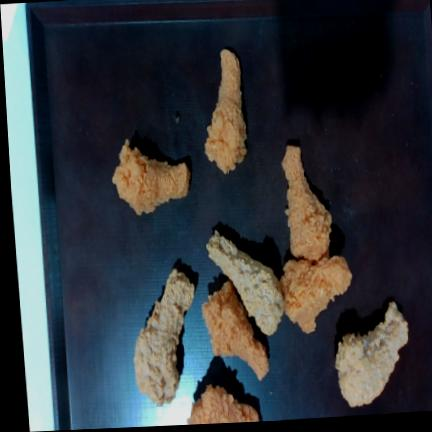chicken: (133, 268, 194, 405), (206, 230, 283, 335), (335, 302, 407, 406), (202, 281, 268, 380), (112, 139, 190, 214), (281, 145, 331, 260), (280, 255, 351, 333), (204, 49, 246, 173), (187, 385, 258, 425)
